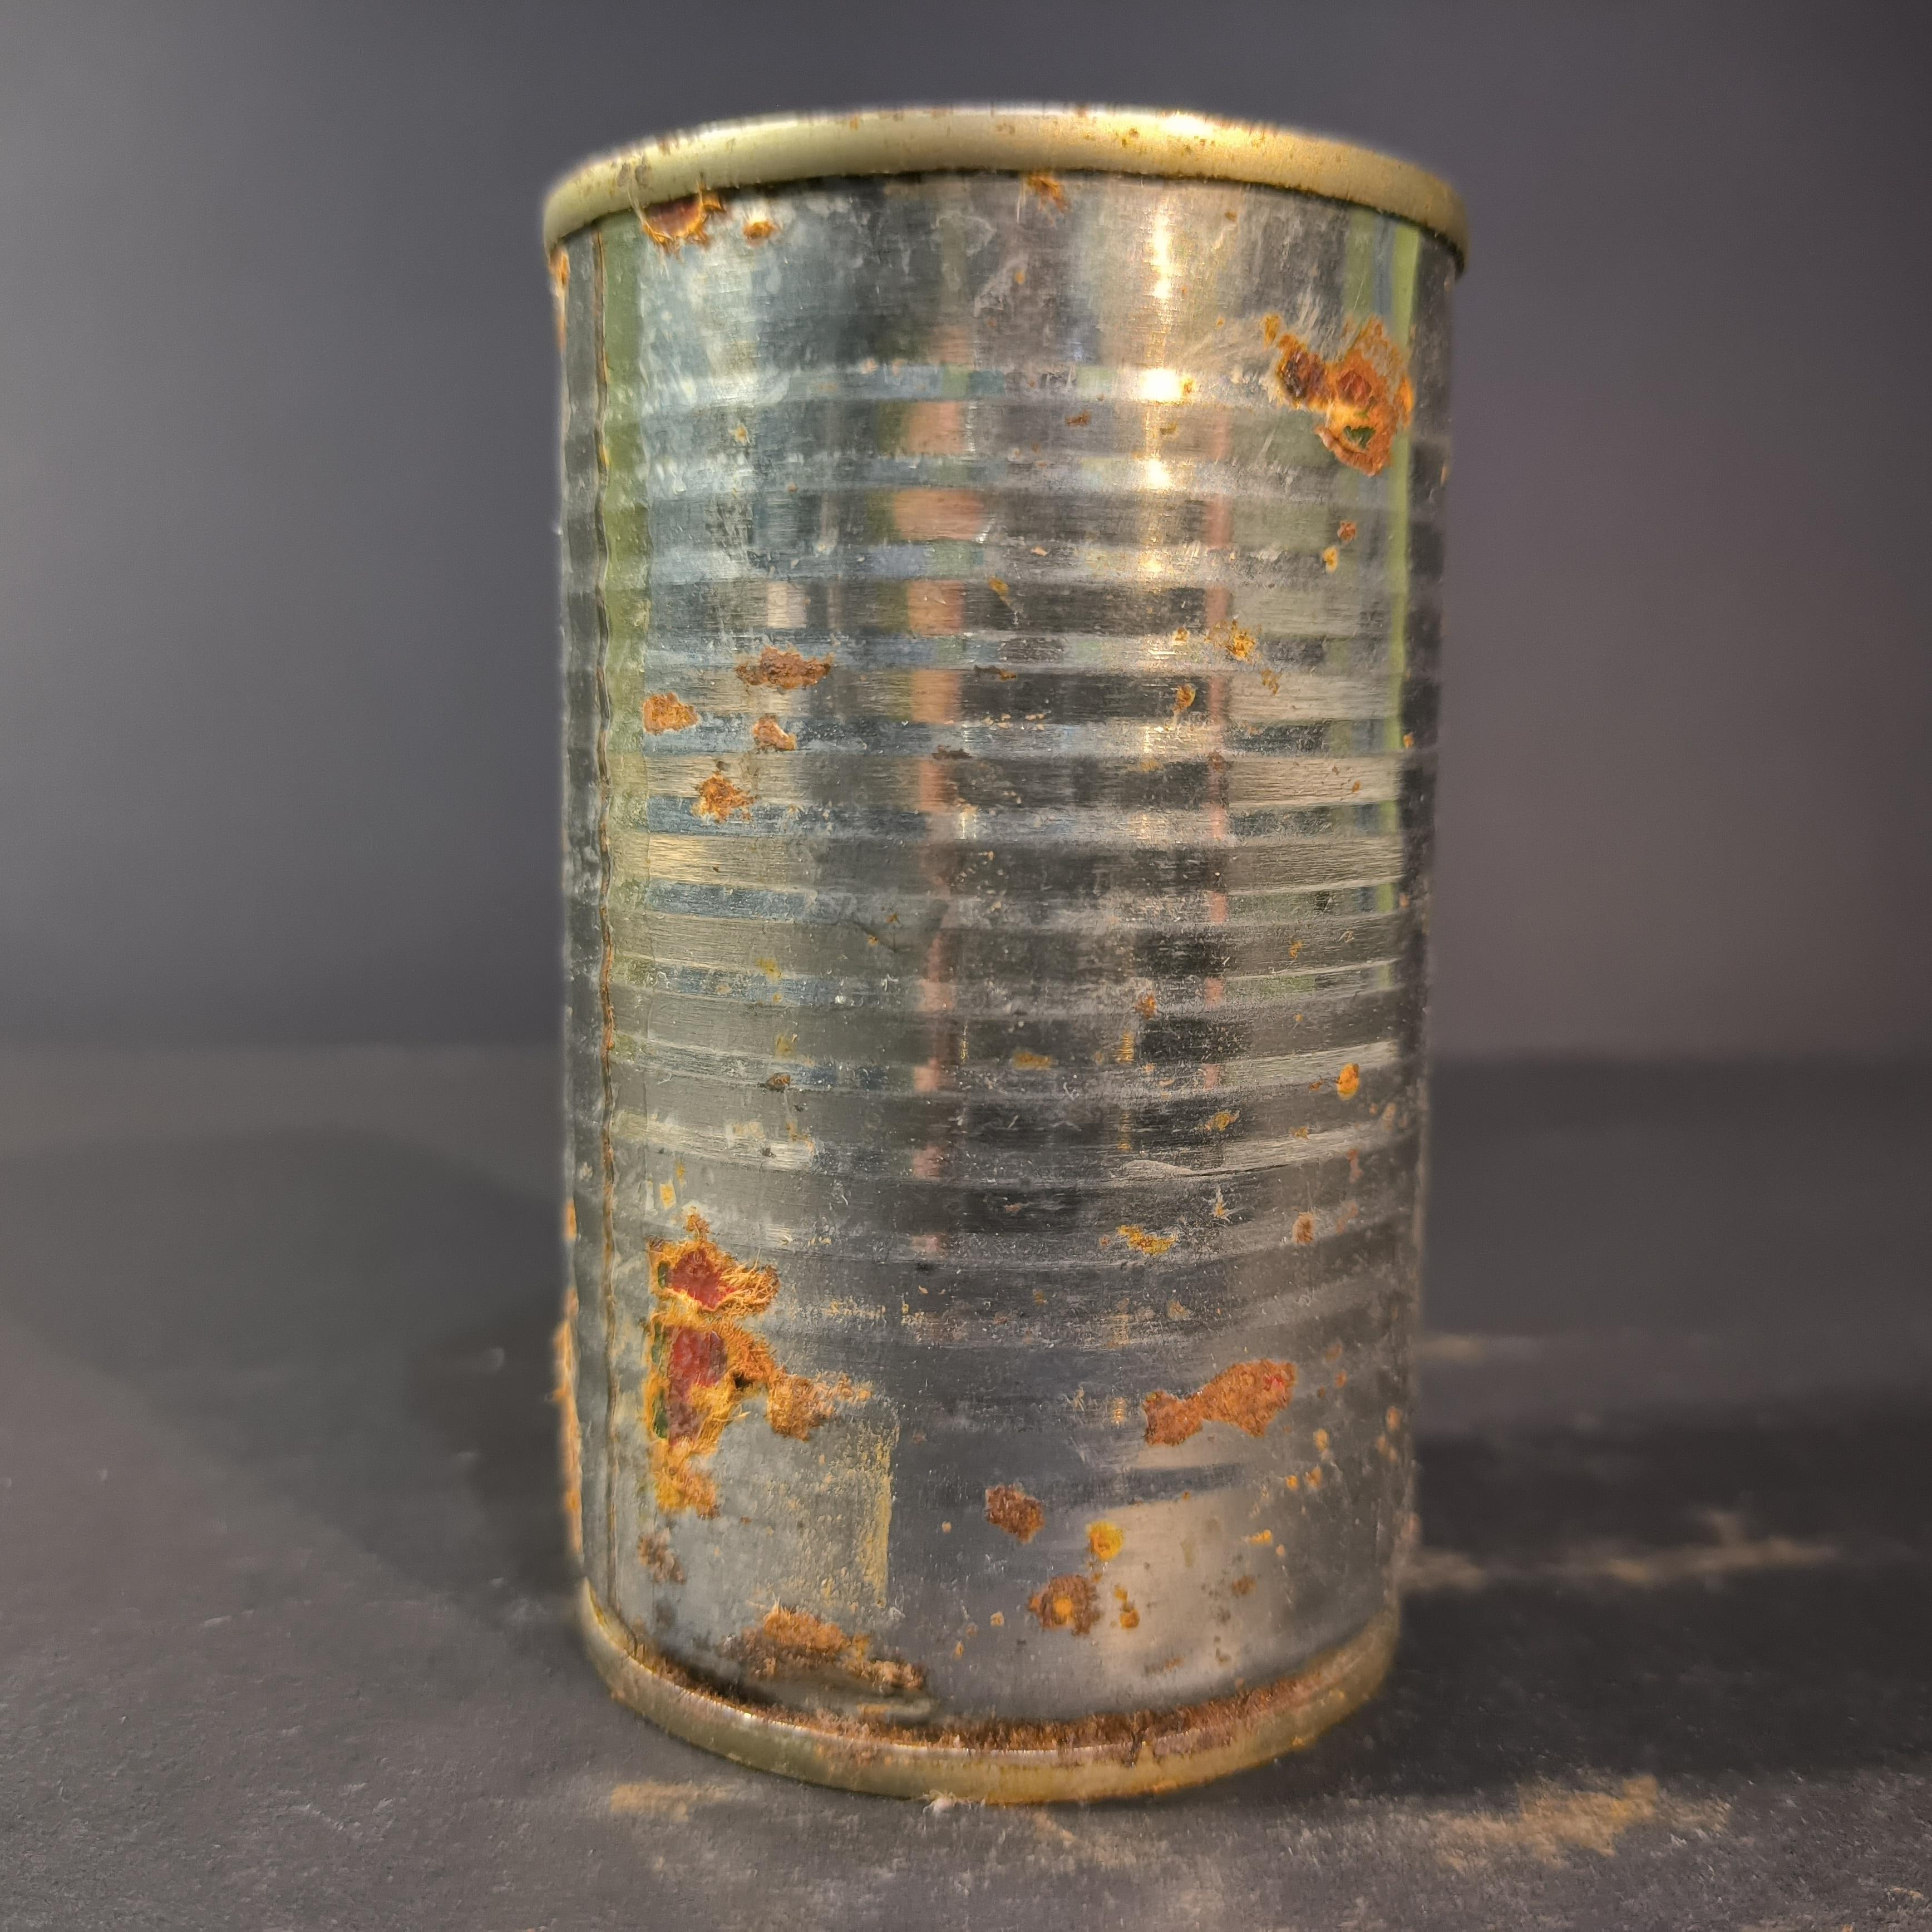Rusted: (515, 78, 1483, 1817)
